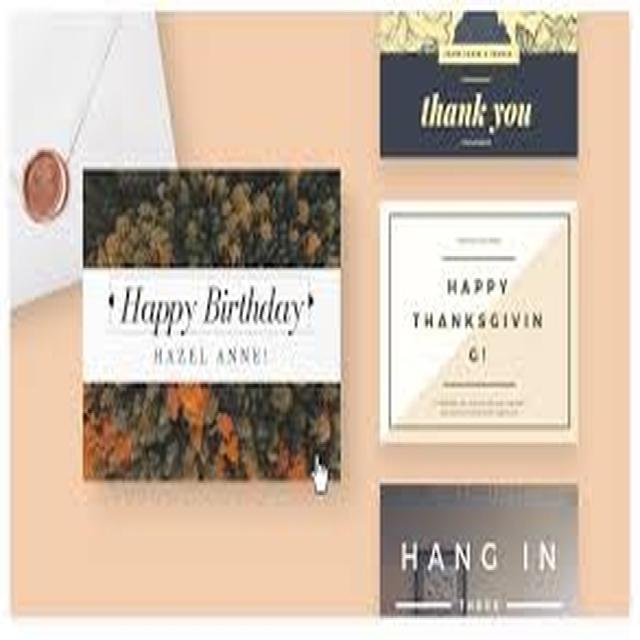card: (61, 143, 356, 510)
